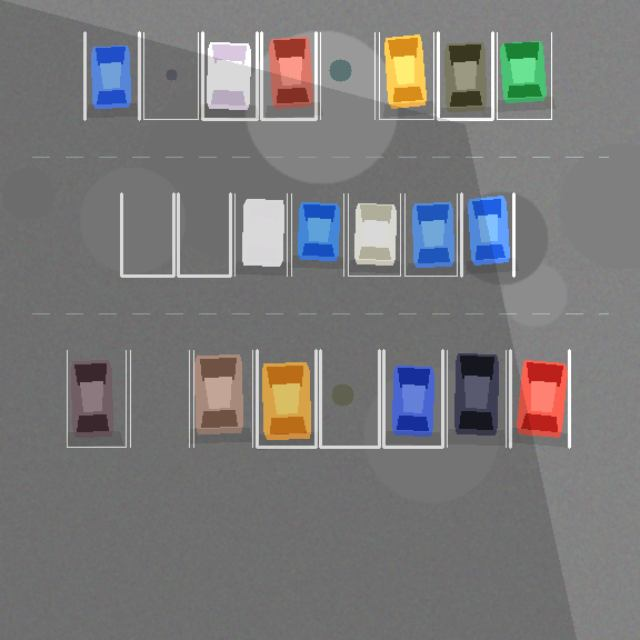space-empty: (130, 350, 189, 447), (320, 350, 379, 447), (143, 32, 198, 119), (320, 32, 374, 119), (121, 193, 173, 276), (178, 193, 230, 276)
space-occupied: (67, 350, 126, 447), (193, 350, 252, 447), (257, 350, 316, 447), (383, 350, 442, 447), (447, 350, 506, 447), (510, 350, 569, 447), (84, 32, 139, 119), (202, 32, 257, 119), (261, 32, 316, 119), (379, 32, 433, 119), (438, 32, 492, 119), (497, 32, 551, 119), (234, 193, 287, 276), (404, 193, 457, 276), (291, 193, 343, 276), (348, 193, 400, 276), (461, 193, 513, 276)
